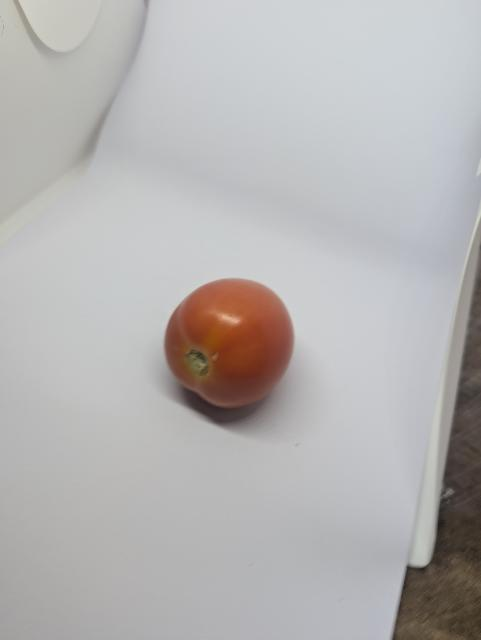red: (149, 270, 311, 421)
